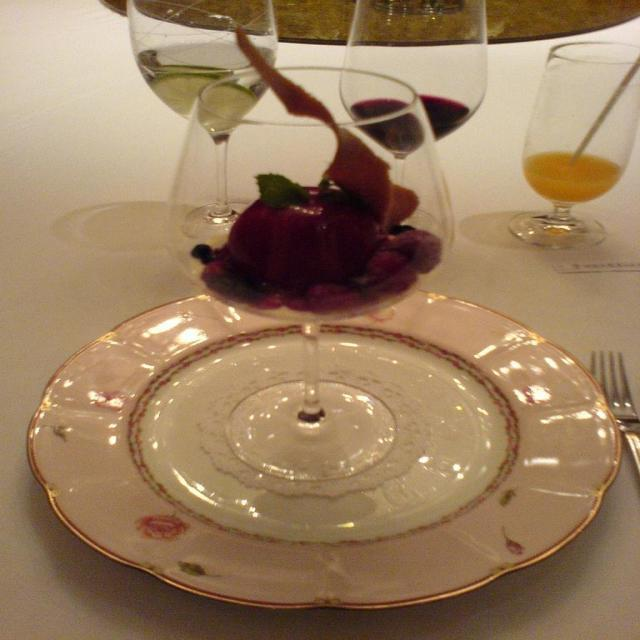ceramic plate: (36, 283, 631, 628)
